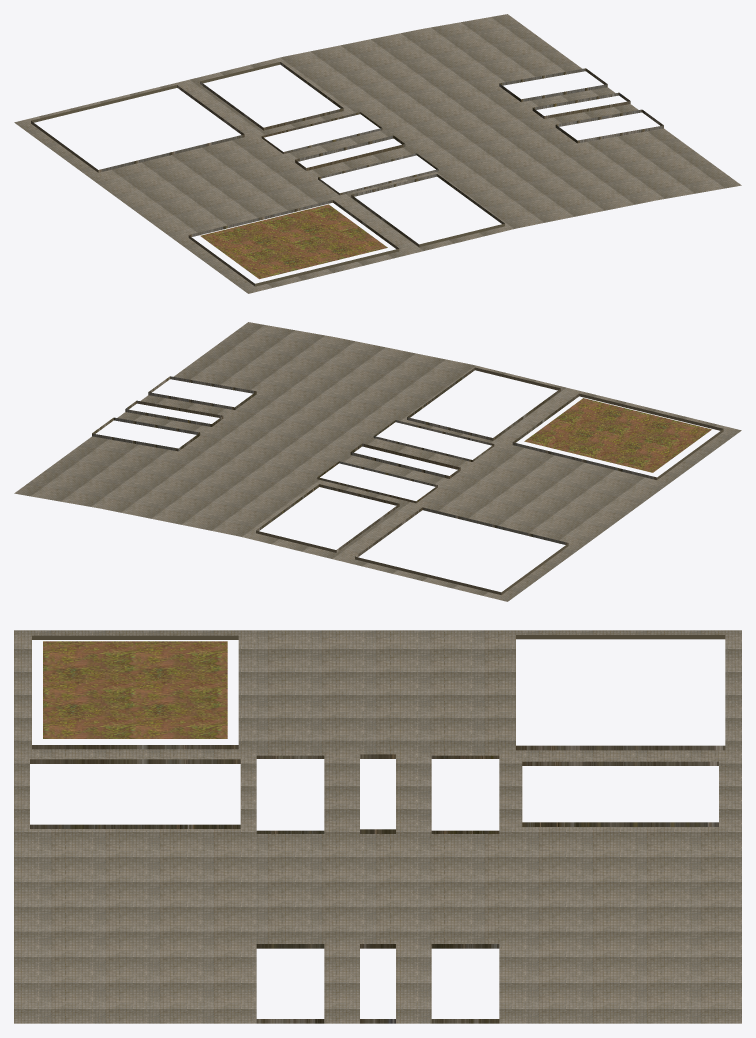
Rendered from ground_1.obj.
The picture shows the model from 3 angles, top to bottom: view 1: azimuth 30°, elevation 25°; view 2: azimuth 150°, elevation 25°; view 3: azimuth 270°, elevation 25°; orthographic projection. The views are drawn at different scales.
Parts seen in each view (by area): view 1: ground_1_Plane.001; view 2: ground_1_Plane.001; view 3: ground_1_Plane.001.
Boxes of the visible parts, x1,y1,x2,y2 form: ground_1_Plane.001: [14, 14, 741, 293]; ground_1_Plane.001: [14, 322, 741, 601]; ground_1_Plane.001: [14, 630, 741, 1023].
Bounding box in the file's own units: 17.15 × 0.4991 × 14.09.
2 materials, 2 textured.
